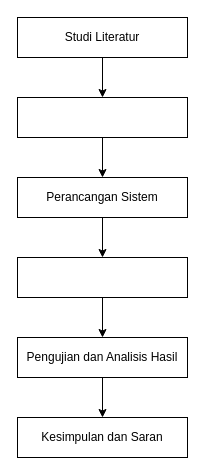
This 205x475 diagram has some shape labels left out. The box of each missing label's shape, as (x1, y1, x2, y2) in pixels:
Implementasi: (16, 256, 188, 298)
Rekayasa Kebutuhan: (16, 96, 188, 138)
